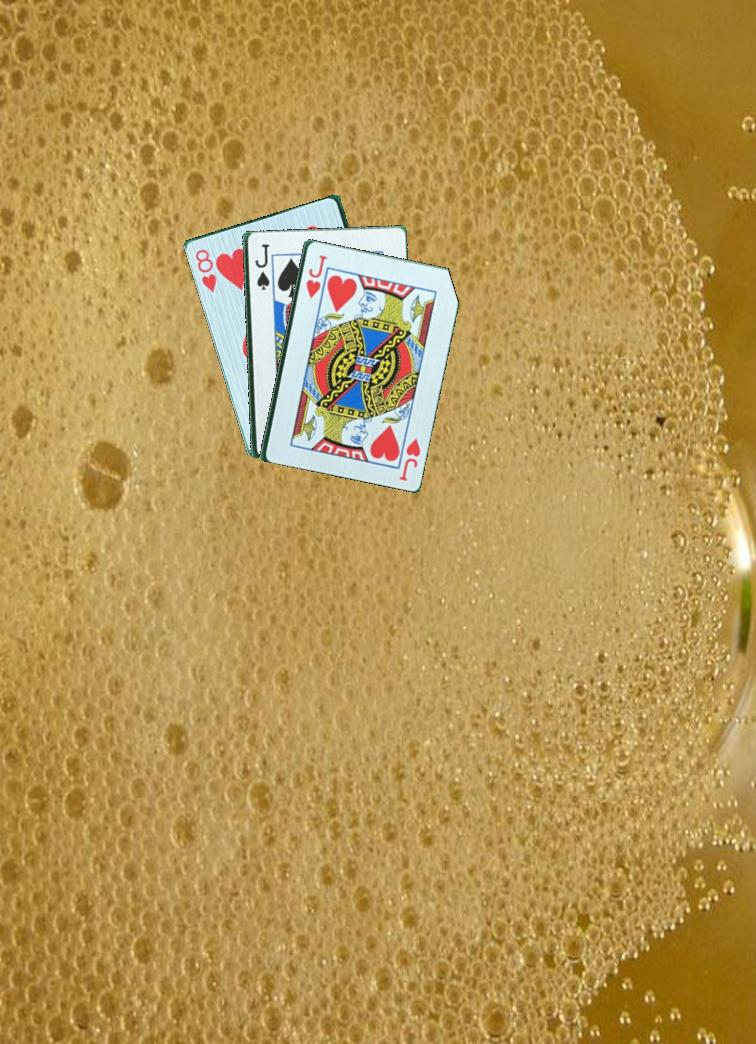8h: (191, 245, 219, 295)
jh: (395, 434, 423, 484), (302, 251, 328, 301)
js: (251, 240, 270, 293)
